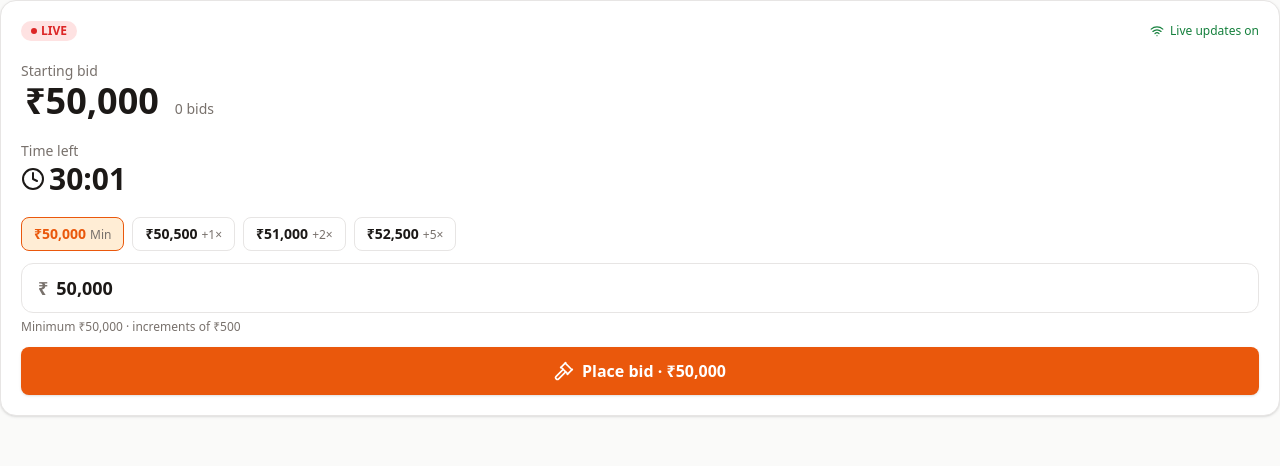
Test: BidPanel › explains a lost race with the new minimum instead of a generic error
Click the button "Place bid · ₹50,000" at (640, 371), box [21,347,1259,395]
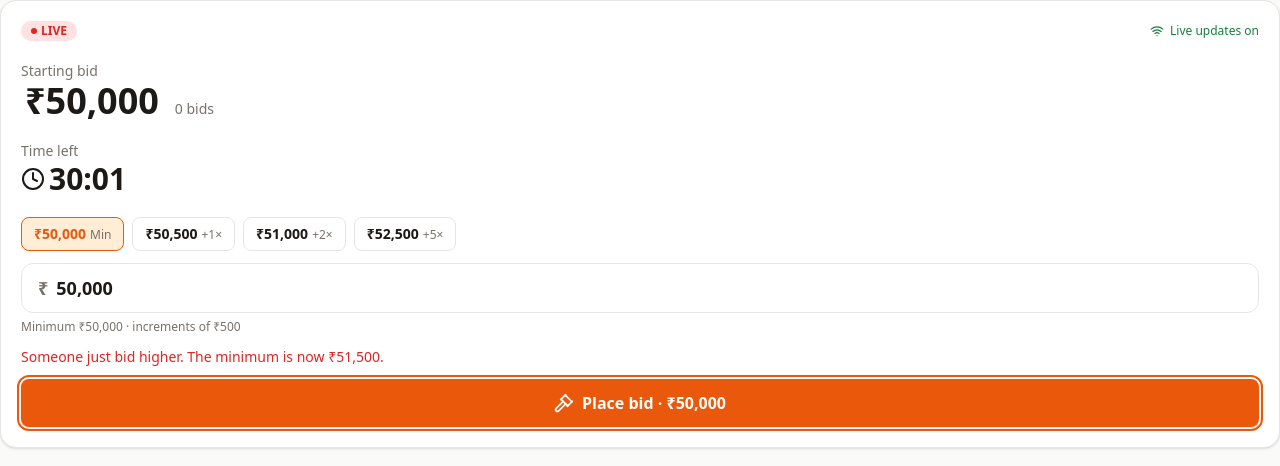
Expected: the message reads "Someone just bid higher. The minimum is now ₹51,500.", [21,347,384,366]
